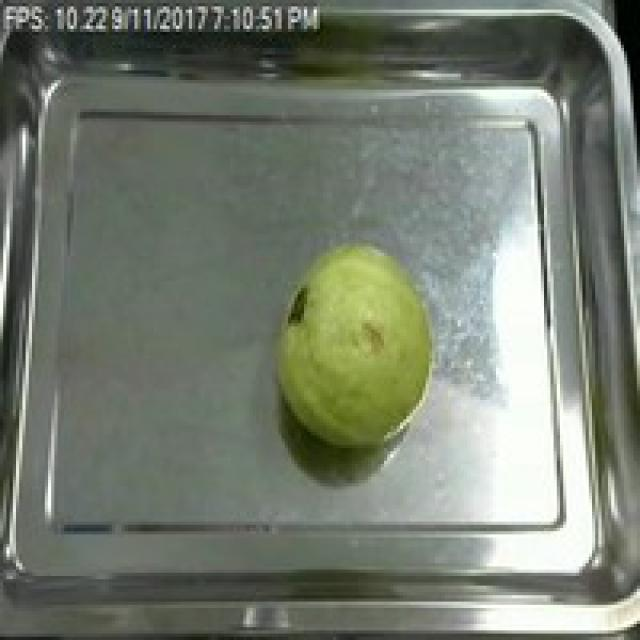Fruit: (266, 230, 444, 458)
